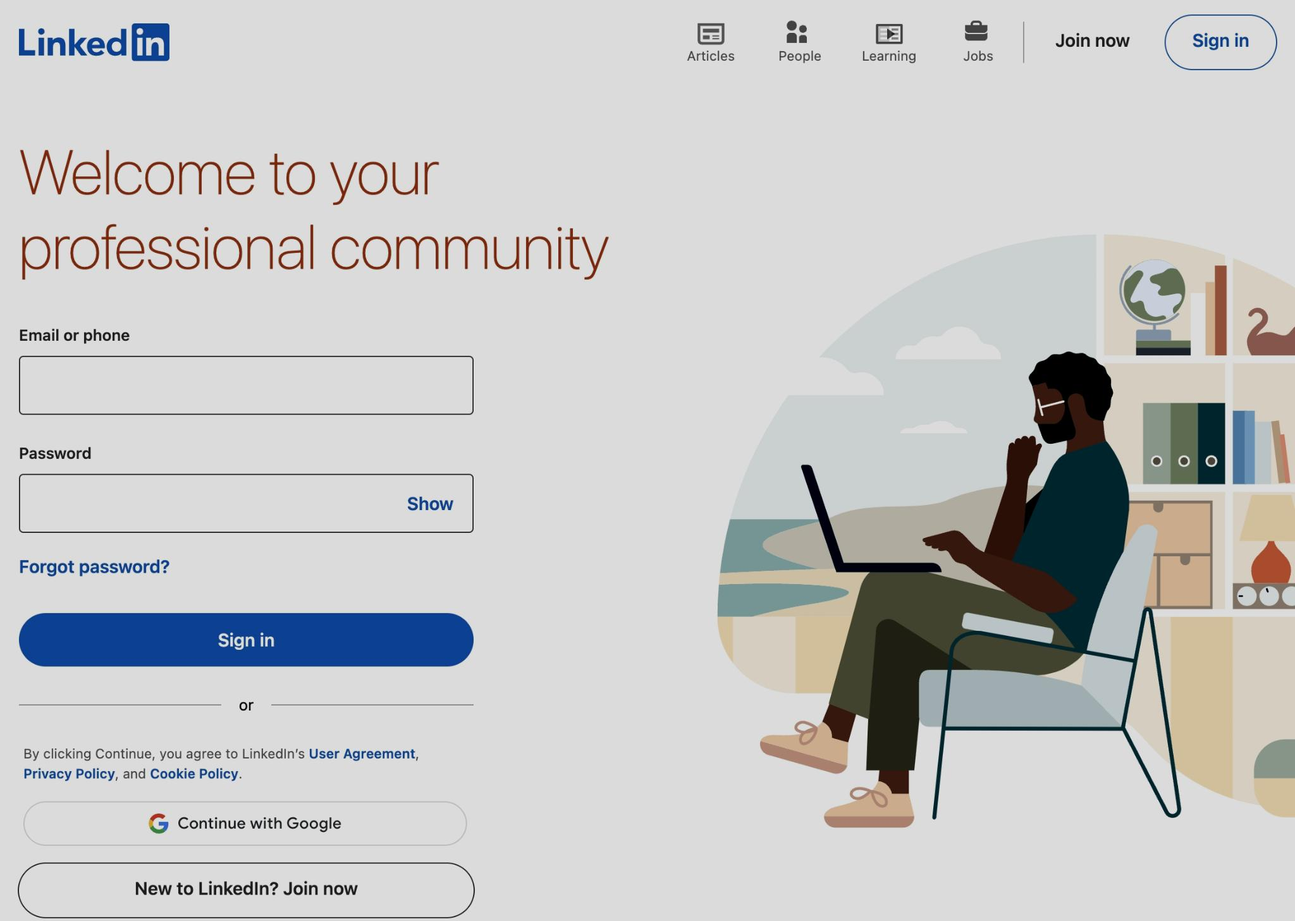webelement: (0, 88, 1294, 921), (709, 226, 1295, 850), (18, 0, 1275, 88), (23, 742, 468, 800), (18, 612, 473, 665), (18, 862, 473, 915), (18, 440, 473, 464), (18, 322, 473, 345), (37, 371, 454, 396), (37, 489, 391, 515), (1028, 15, 1155, 68), (1165, 15, 1275, 68), (18, 22, 168, 60), (675, 12, 746, 70), (764, 12, 835, 70), (853, 12, 924, 70), (942, 12, 1013, 70), (18, 554, 168, 576), (308, 745, 414, 760), (23, 764, 114, 779), (150, 764, 237, 779), (405, 489, 454, 515), (220, 692, 270, 715), (861, 47, 915, 63), (686, 47, 733, 63), (875, 20, 902, 47), (697, 20, 723, 47), (778, 47, 821, 63), (962, 47, 992, 63), (786, 20, 805, 42), (964, 21, 986, 40)
